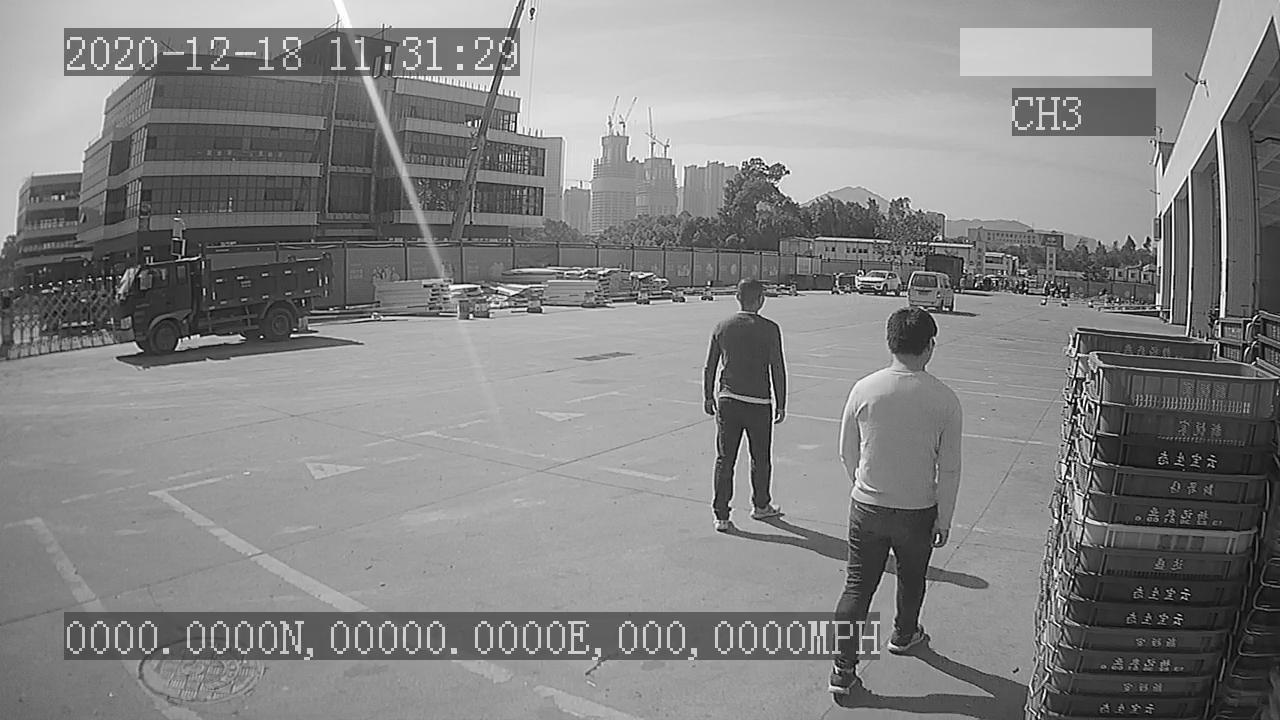person: (839, 302, 964, 549), (703, 273, 794, 530)
